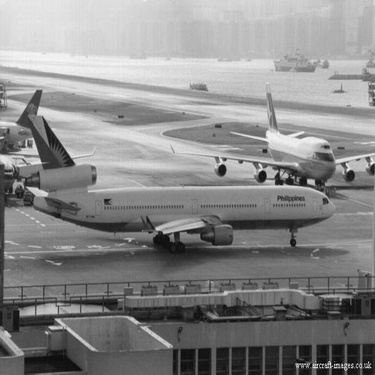airplane: (14, 96, 343, 269), (179, 86, 372, 198), (1, 82, 47, 162)
